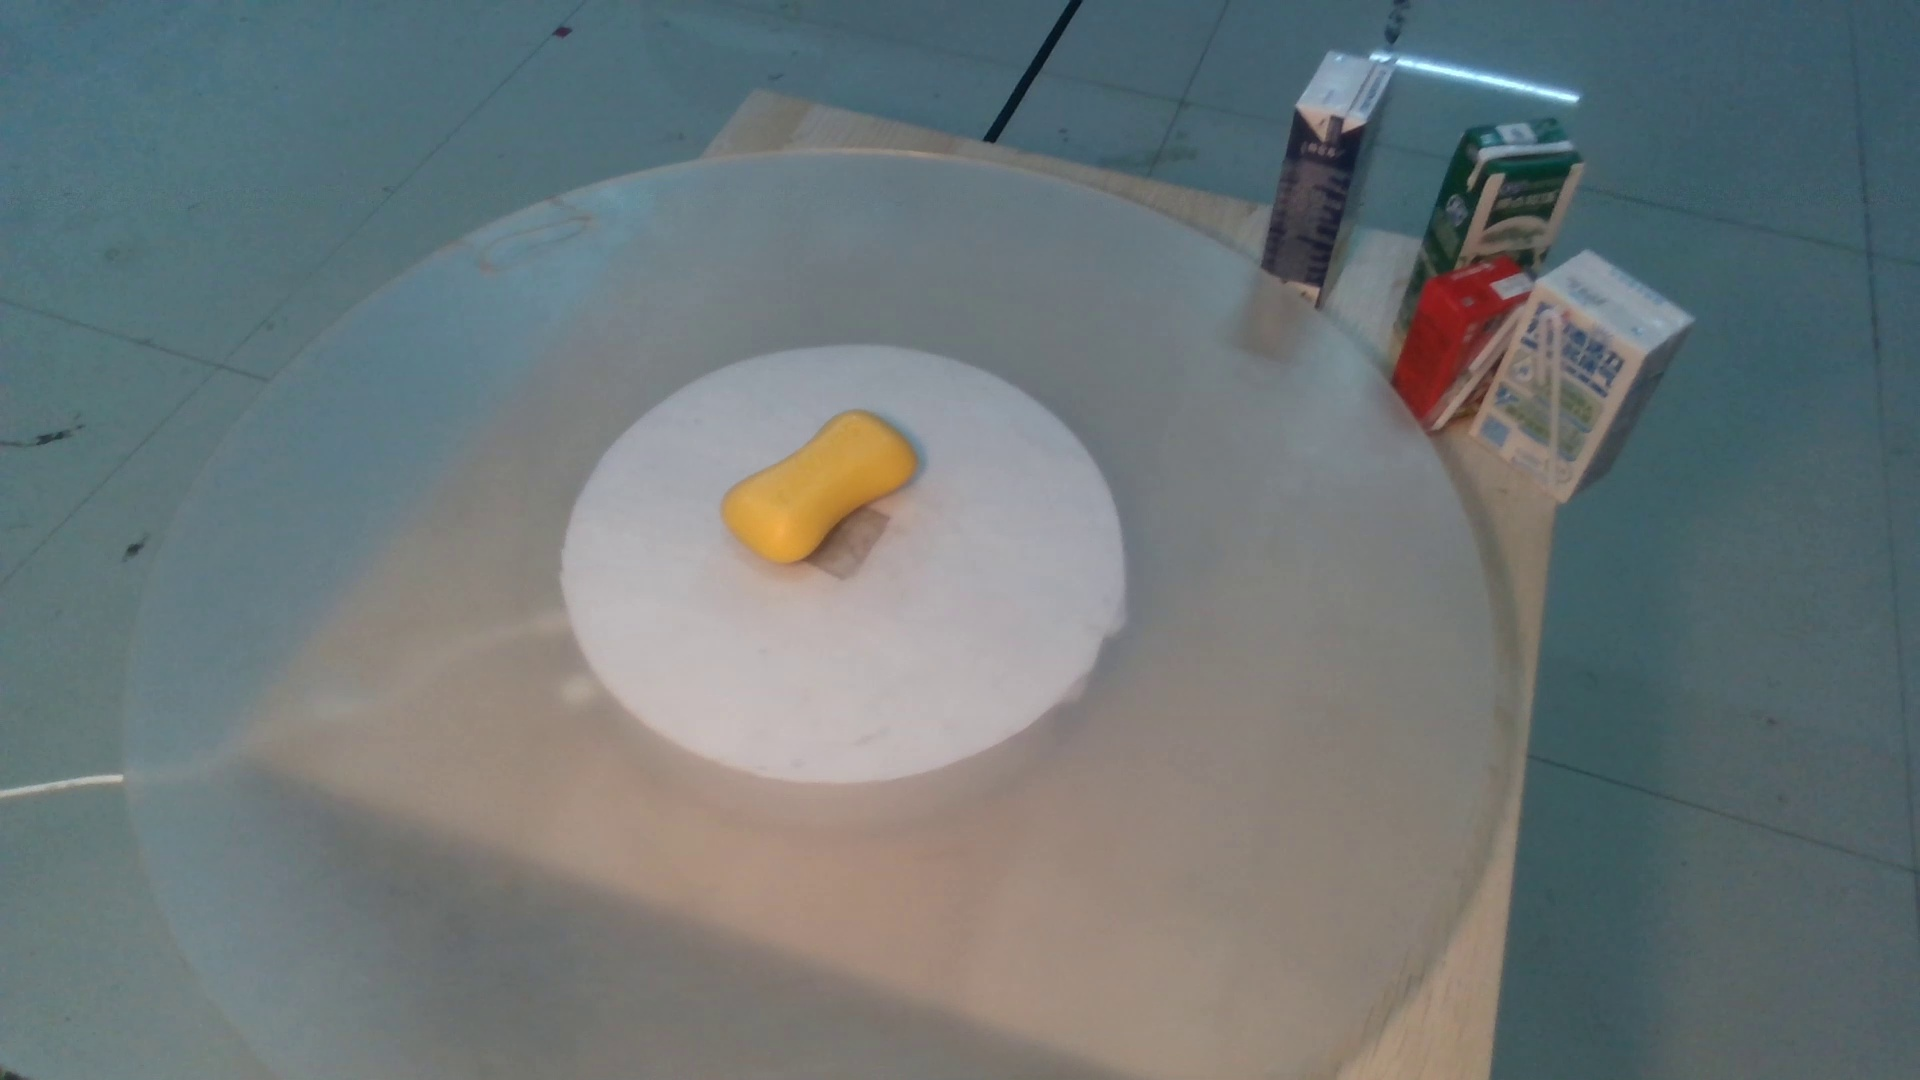CA003_1: (716, 404, 934, 570)
